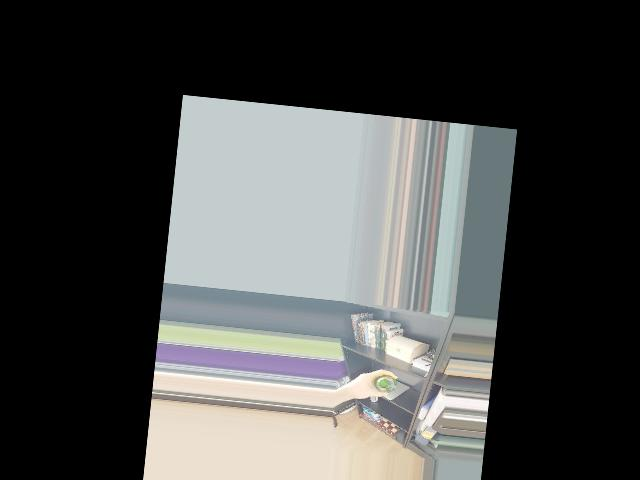beer: (373, 374, 396, 394)
